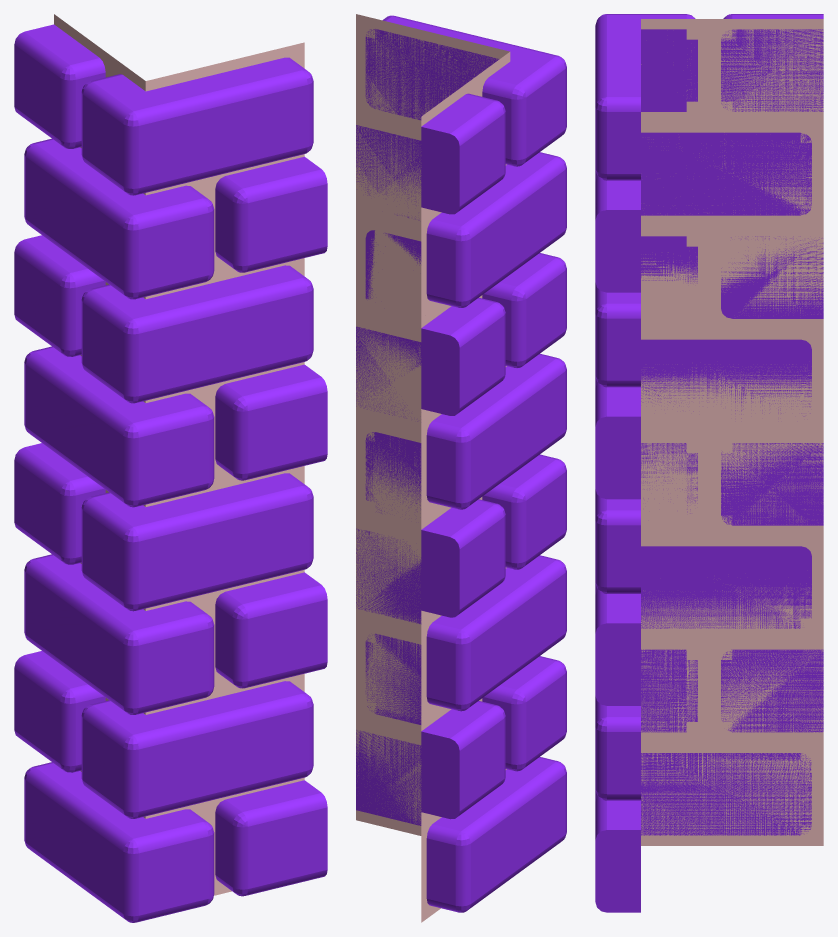
The model's file is convex_1_low.dae.
3 views of the same model, side by side, from view 1: azimuth 30°, elevation 25°; view 2: azimuth 150°, elevation 25°; view 3: azimuth 270°, elevation 25° (orthographic). The views are drawn at different scales.
Visible parts, largest first — view 1: corner_convex_2_1 (×8), brick_half_1 (×8), st5 (×12), st3 (×16), st4 (×8), st6 (×8), group_2 (×4), group_3 (×5); view 2: corner_convex_2_1 (×8), brick_half_1 (×8), group_2 (×8), group_3 (×5), st5 (×6), st3 (×8), st4 (×4), st6 (×4), st1 (×5), group_1; view 3: corner_convex_2_1 (×8), brick_half_1 (×8), group_2 (×4), group_3 (×4), group_1 (×4), st3 (×4), st1 (×4), st4 (×4), st5.
Part boxes in pixels (<box>): corner_convex_2_1 (×8): <box>26,57,307,915</box>; brick_half_1 (×8): <box>14,24,327,888</box>; st5 (×12): <box>26,70,307,851</box>; st3 (×16): <box>60,78,248,916</box>; st4 (×8): <box>14,31,327,826</box>; st6 (×8): <box>83,82,208,853</box>; group_2 (×4): <box>145,42,304,714</box>; group_3 (×5): <box>54,14,304,895</box>; corner_convex_2_1 (×8): <box>365,16,565,905</box>; brick_half_1 (×8): <box>356,94,504,825</box>; group_2 (×8): <box>356,14,509,922</box>; group_3 (×5): <box>356,76,476,835</box>; st5 (×6): <box>461,157,565,909</box>; st3 (×8): <box>455,98,526,906</box>; st4 (×4): <box>450,101,503,750</box>; st6 (×4): <box>517,56,565,701</box>; st1 (×5): <box>427,78,516,845</box>; group_1: <box>477,52,510,96</box>; corner_convex_2_1 (×8): <box>607,15,811,835</box>; brick_half_1 (×8): <box>595,15,823,912</box>; group_2 (×4): <box>641,122,823,845</box>; group_3 (×4): <box>709,19,823,742</box>; group_1 (×4): <box>641,19,709,742</box>; st3 (×4): <box>595,107,606,793</box>; st1 (×4): <box>607,97,640,731</box>; st4 (×4): <box>595,176,606,840</box>; st5: <box>595,15,606,106</box>.
Bounding box in the file's own units: 19.69 × 19.69 × 78.74.
